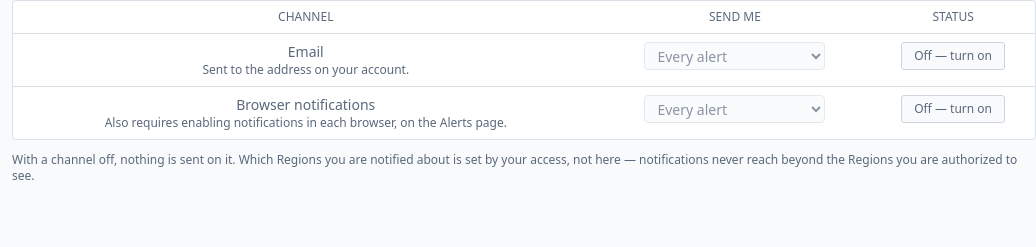
Test case: A failed save is not reported as a failed load › keeps the controls on screen and names the real failure
The width and height of the screenshot is (1036, 247).
Click the button "Off — turn on" in the row of "Email": (953, 56) [901,42,1005,70]
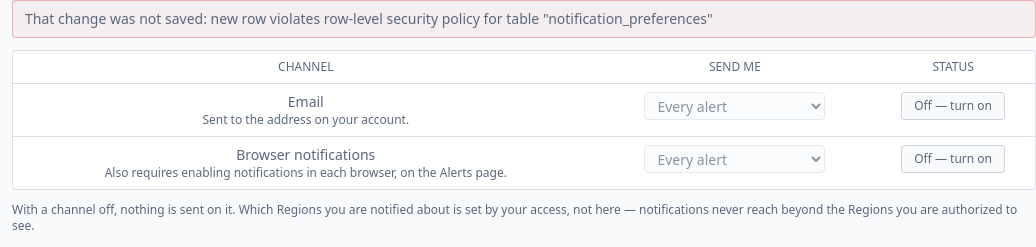
Expected: the button "Off — turn on" in the row of "Email" is shown, [901,92,1005,120]
Now the message shows "was not saved", box [25,9,211,28]
